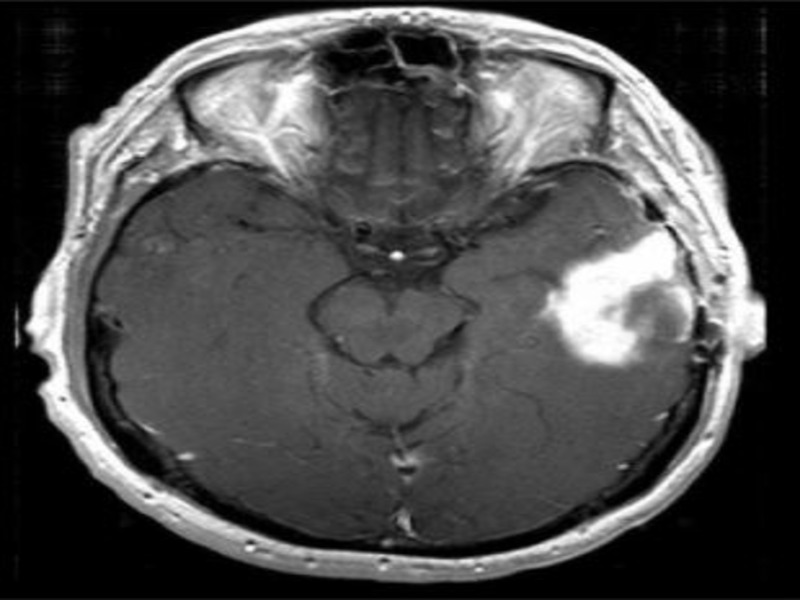tumor: (536, 221, 707, 382)
